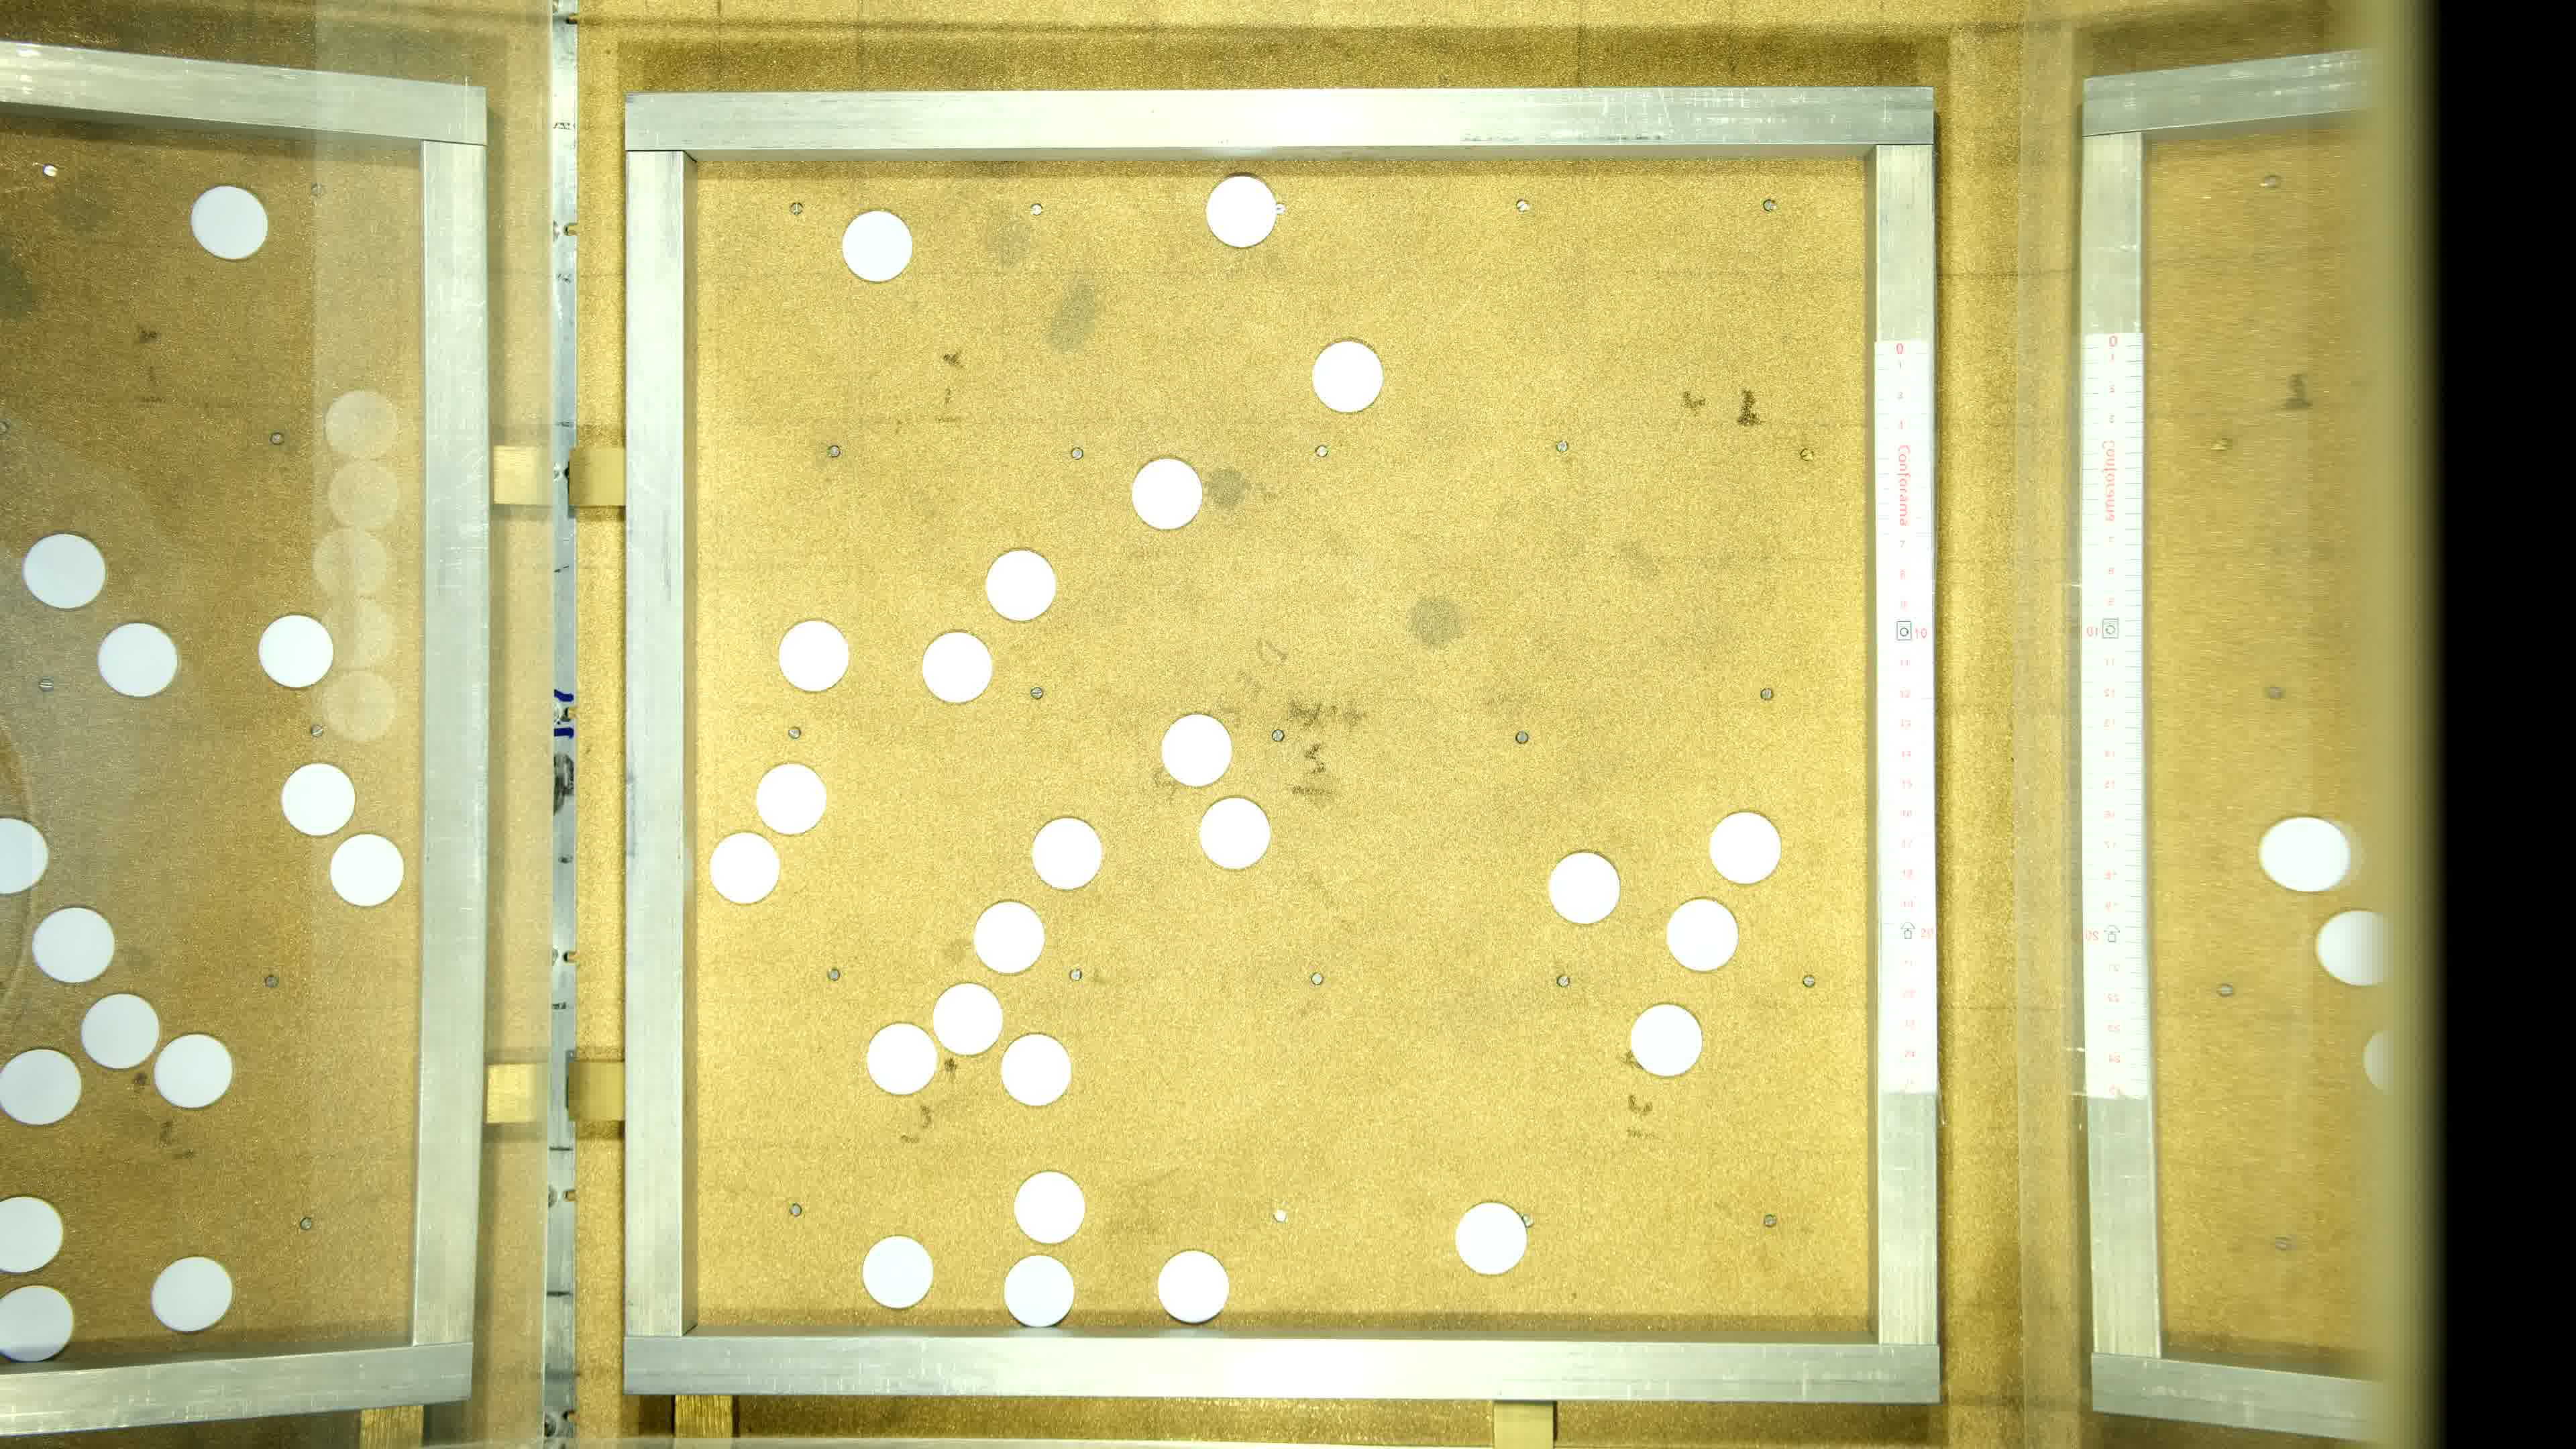pallet: (752, 761, 828, 837), (1157, 711, 1233, 787), (1196, 796, 1270, 872), (709, 828, 784, 904), (867, 1019, 941, 1095), (931, 980, 1005, 1056), (973, 899, 1047, 975), (1030, 814, 1104, 890), (984, 547, 1058, 623), (918, 630, 993, 706), (775, 616, 849, 692), (1309, 338, 1384, 414), (1454, 1200, 1529, 1276), (1628, 1001, 1702, 1077), (1663, 897, 1737, 973), (1707, 812, 1782, 888), (1546, 851, 1621, 927), (1205, 173, 1279, 249), (1012, 1168, 1086, 1244), (837, 207, 911, 283), (1000, 1033, 1074, 1108), (1131, 458, 1205, 533), (1157, 1249, 1231, 1323), (1001, 1253, 1076, 1327), (863, 1233, 938, 1307)
